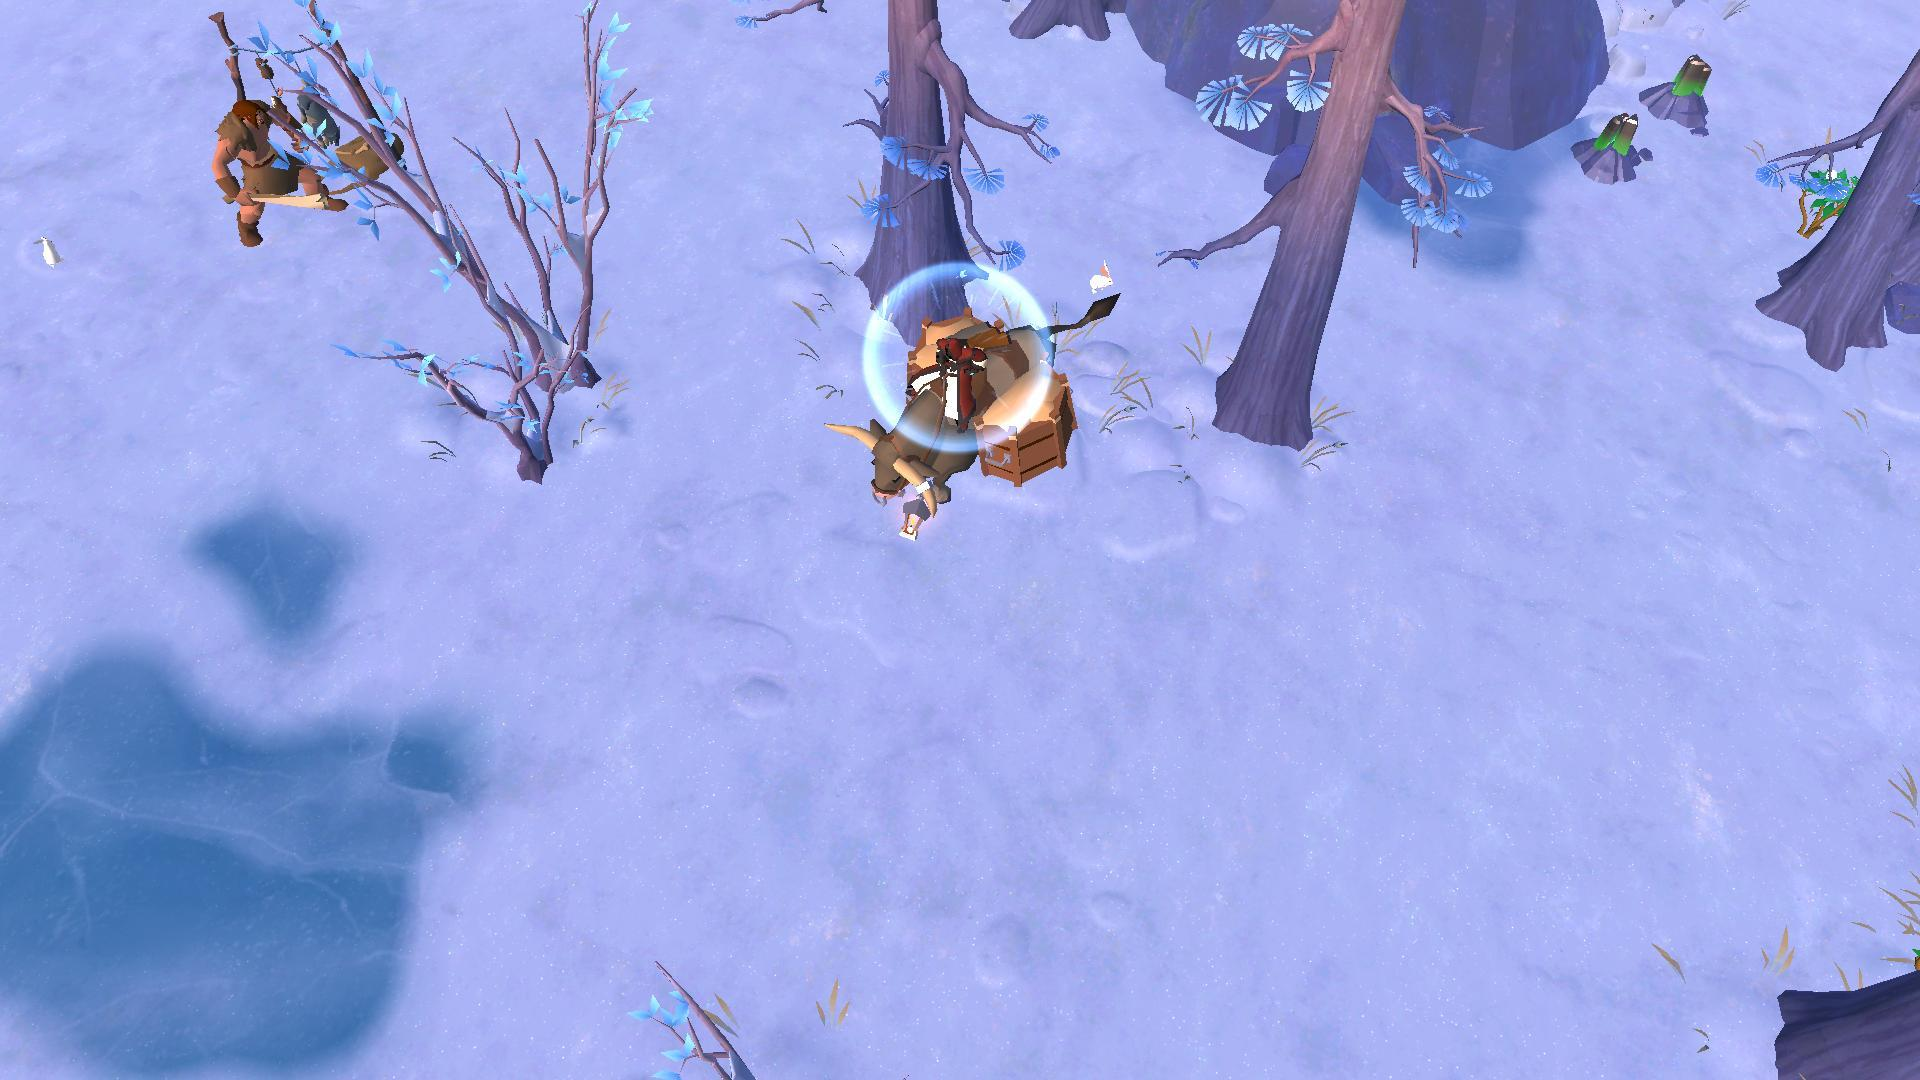enemy_factionKeeper: (203, 91, 342, 249)
fiber_t3: (1792, 158, 1858, 235)
ore_t3: (1593, 107, 1638, 167), (1671, 53, 1714, 105)
